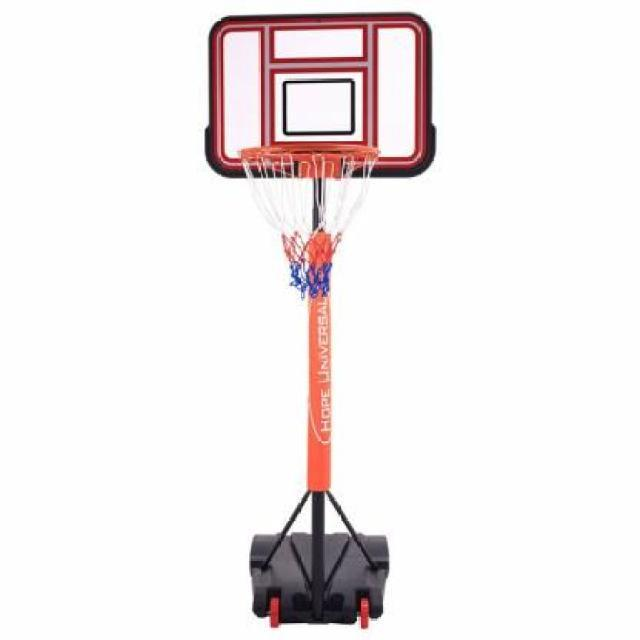rim: (236, 144, 380, 300)
